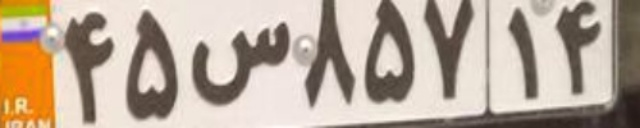1: (506, 5, 537, 100)
4: (62, 11, 113, 123), (554, 2, 603, 96)
5: (125, 8, 178, 120), (361, 0, 416, 102)
7: (421, 0, 477, 99)
8: (306, 1, 354, 107)
sin: (191, 20, 288, 106)
